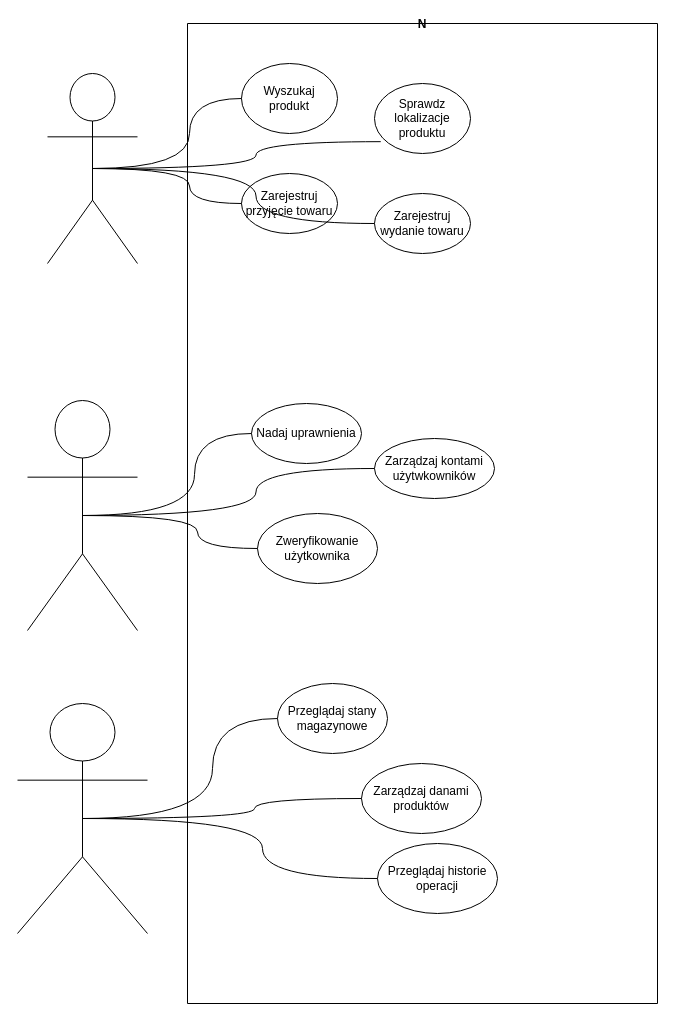
The diagram is 675 pixels wide and 1021 high, and some of its shapes have lost their labels. Each missing label, with the box of its shape:
Administrator: (26, 400, 138, 630)
Kierownik magazynu: (16, 702, 148, 934)
Magazynier: (46, 72, 138, 264)
